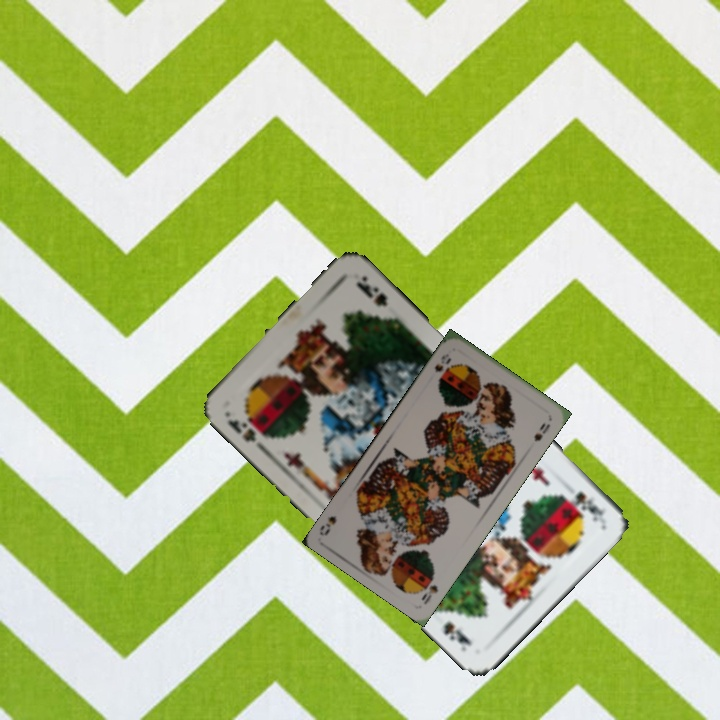SK: (571, 487, 609, 525), (224, 415, 259, 445)
SO: (417, 580, 441, 607), (430, 349, 454, 375)
